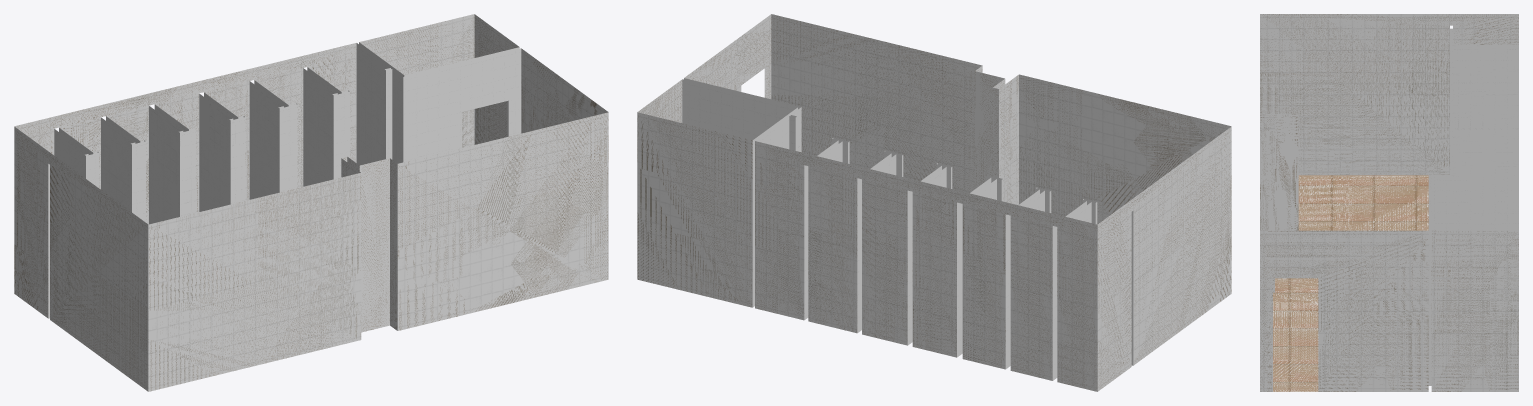
Rendered from COM014.obj.
3 renders of one model, left to right at view 1: azimuth 30°, elevation 25°; view 2: azimuth 150°, elevation 25°; view 3: azimuth 270°, elevation 25°, orthographic. The views are drawn at different scales.
Visible parts, largest first — view 1: Mesh1 COM014 Model; view 2: Mesh1 COM014 Model; view 3: Mesh1 COM014 Model.
Part boxes in pixels (x1,y1,x2,y2): Mesh1 COM014 Model: [14, 14, 608, 391]; Mesh1 COM014 Model: [637, 14, 1231, 391]; Mesh1 COM014 Model: [1260, 14, 1518, 391].
Size of the model in its own units: 8.56 by 2.98 by 4.32.
5 materials, 3 textured.
